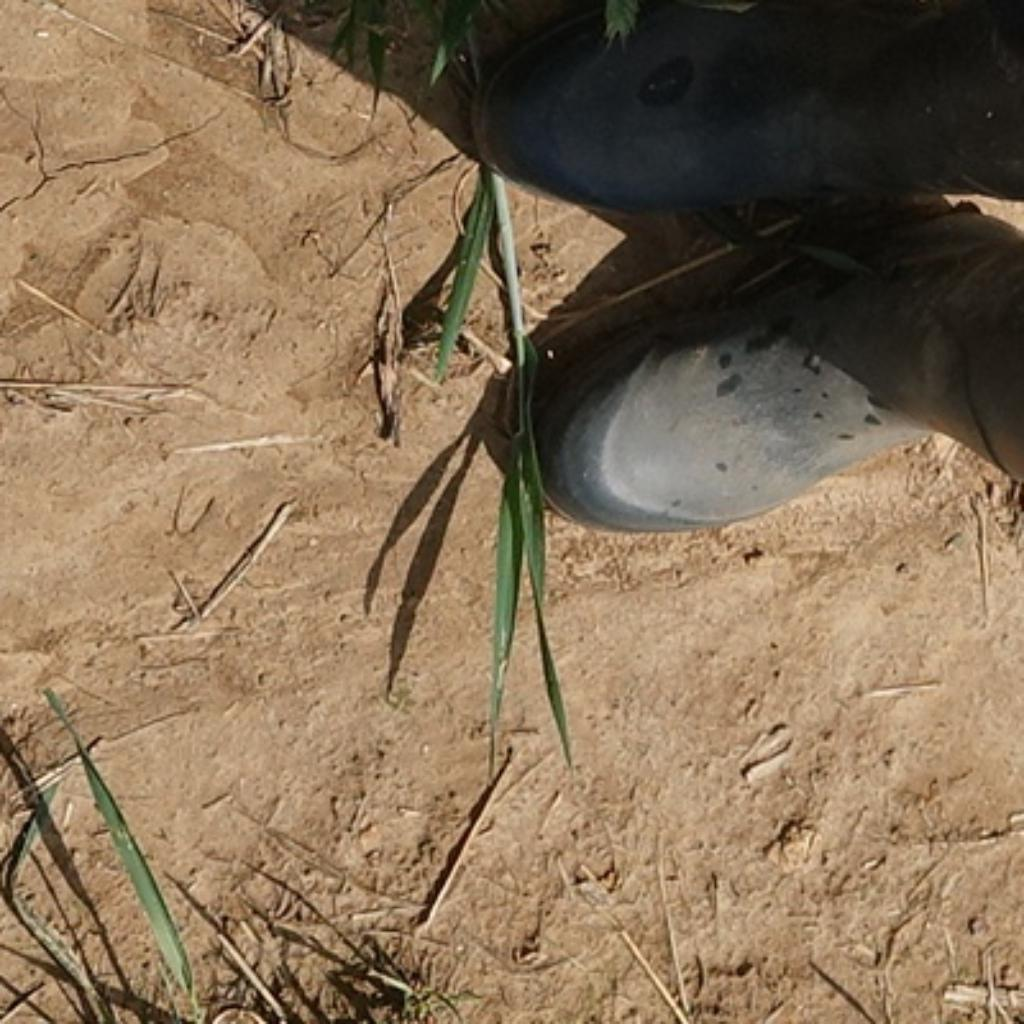0-0: (596, 1, 647, 59)
